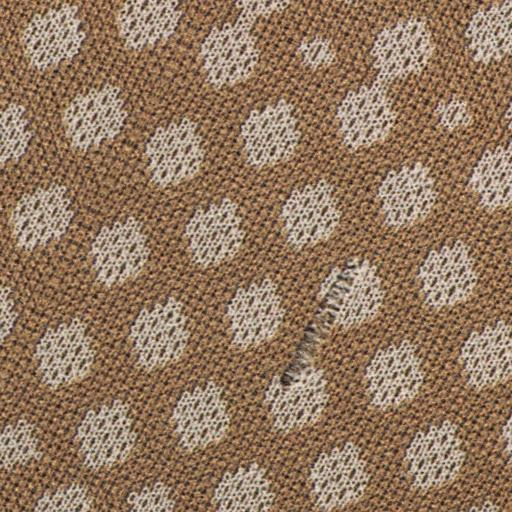slub: (265, 250, 373, 396)
